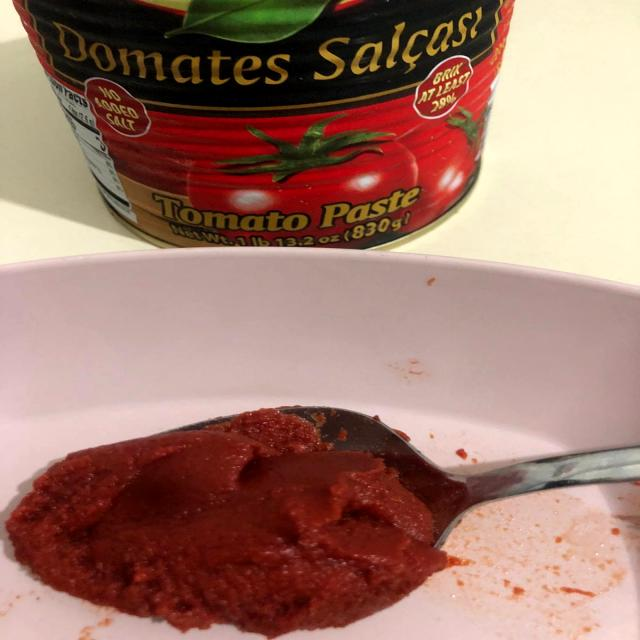tomato paste: (12, 4, 535, 255), (17, 383, 488, 639)
